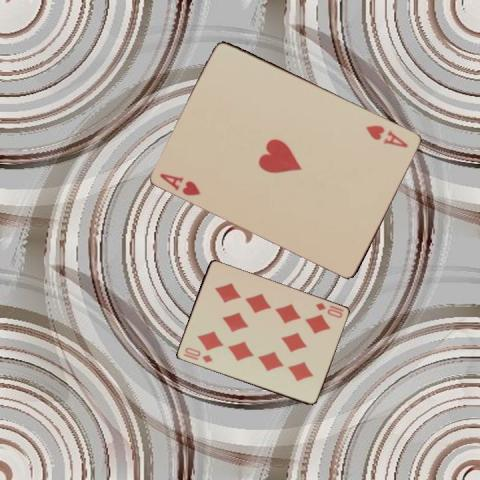10d: (180, 345, 214, 364), (312, 300, 343, 320)
Ah: (362, 122, 410, 150), (156, 170, 202, 197)
